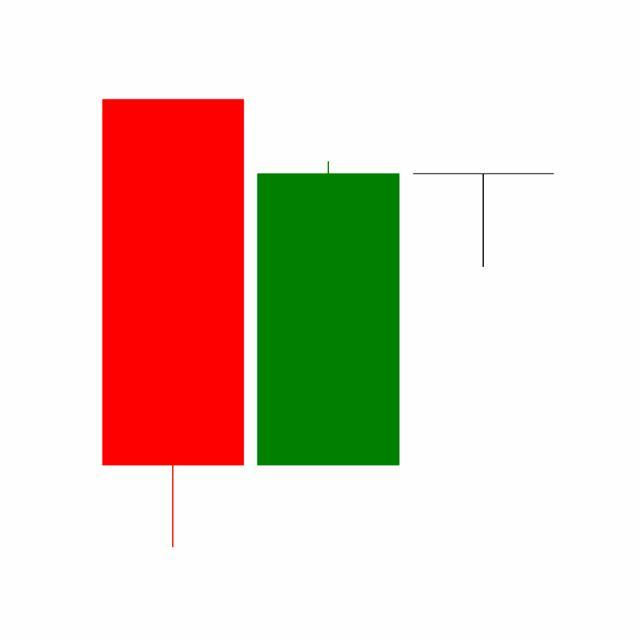Hanging Man: (406, 172, 562, 268)
